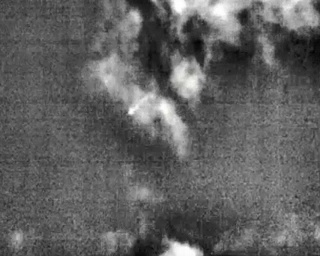AIRPLANE: (128, 115, 141, 130)
